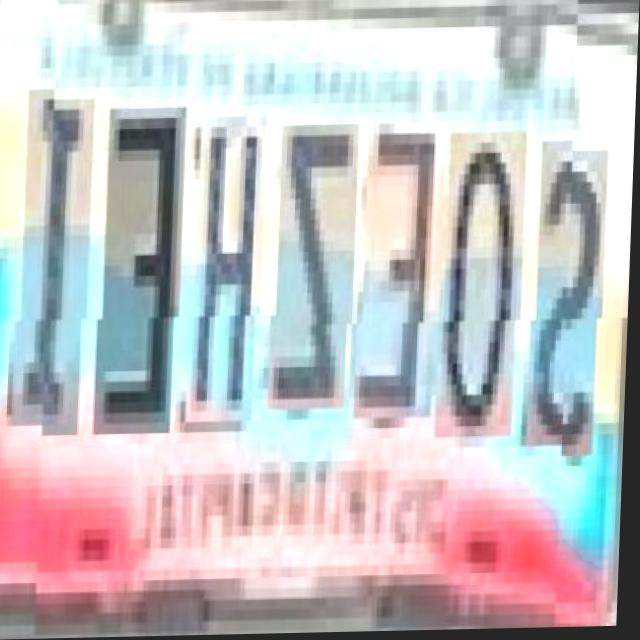e: (96, 108, 183, 436), (356, 124, 442, 420)
h: (188, 117, 265, 423)
i: (15, 99, 92, 437)
o: (437, 134, 524, 440)
s: (528, 142, 605, 449)
z: (270, 126, 356, 412)
